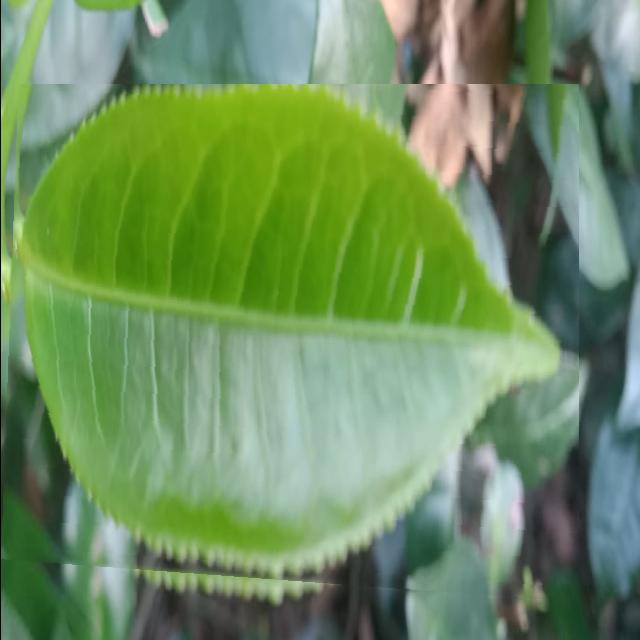Category B(2-4 days): (0, 84, 578, 602), (560, 586, 576, 640)
